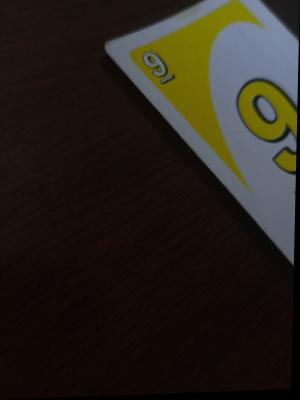num_9: (139, 43, 207, 93)
yellow: (226, 59, 299, 192)
